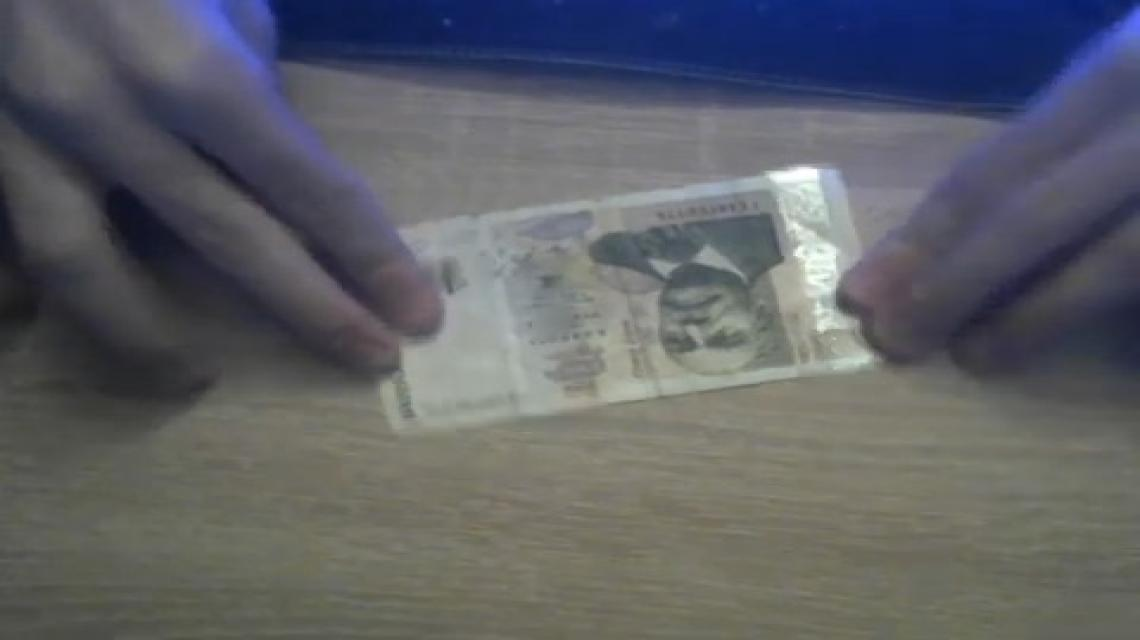10leva: (656, 252, 765, 377)
